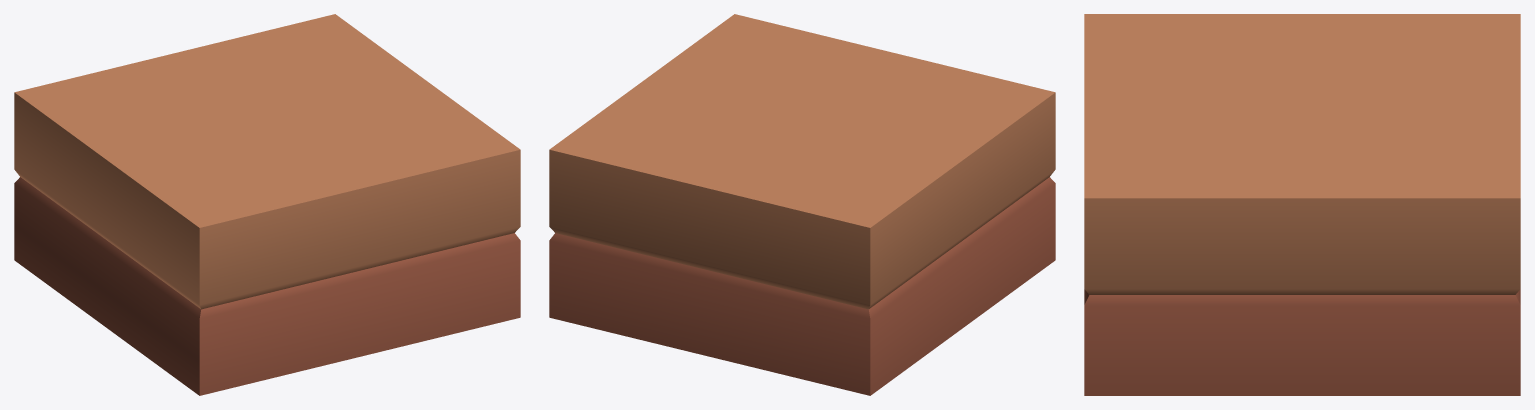
The model's file is square_rock_detail.glb.
3 views of the same model, side by side, from view 1: azimuth 30°, elevation 25°; view 2: azimuth 150°, elevation 25°; view 3: azimuth 270°, elevation 25° (orthographic). The views are drawn at different scales.
Visible parts, largest first — view 1: square_rock_detail; view 2: square_rock_detail; view 3: square_rock_detail.
Boxes of the visible parts, x1,y1,x2,y2 form: square_rock_detail: [14, 14, 520, 395]; square_rock_detail: [549, 14, 1055, 395]; square_rock_detail: [1084, 14, 1520, 395].
Bounding box in the file's own units: 3.82 × 1.91 × 3.82.
